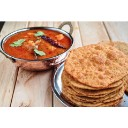poori: (68, 44, 128, 87)
